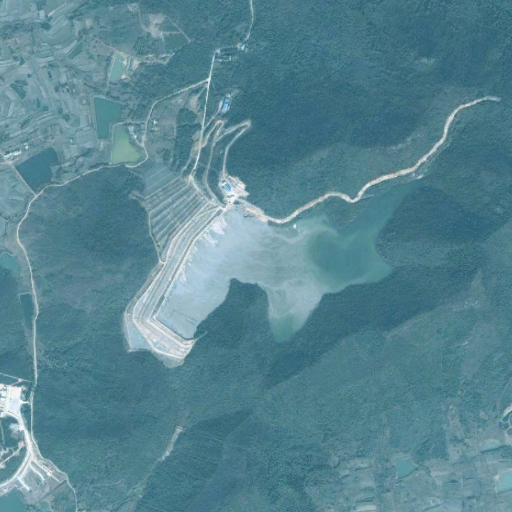tp: (137, 156, 397, 361)
